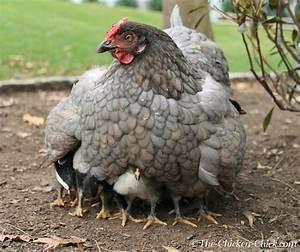hen: (38, 11, 247, 229)
